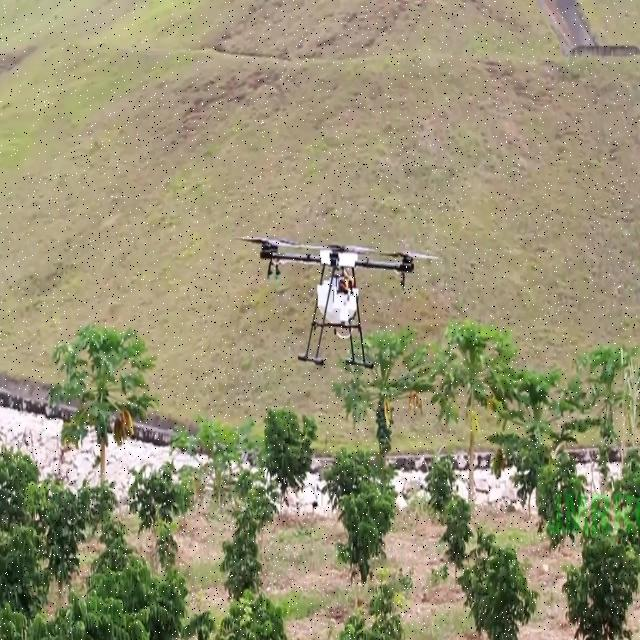UAV: (252, 234, 418, 370)
